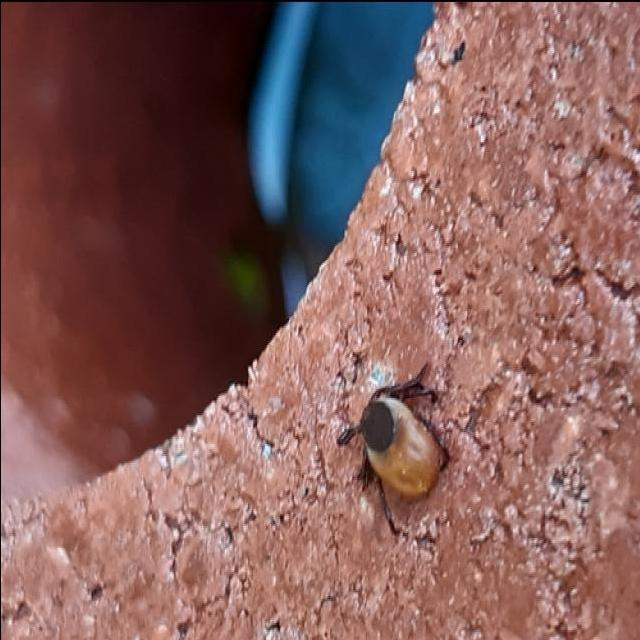Ixodes Ricinus-F-Fed: (337, 365, 451, 534)
